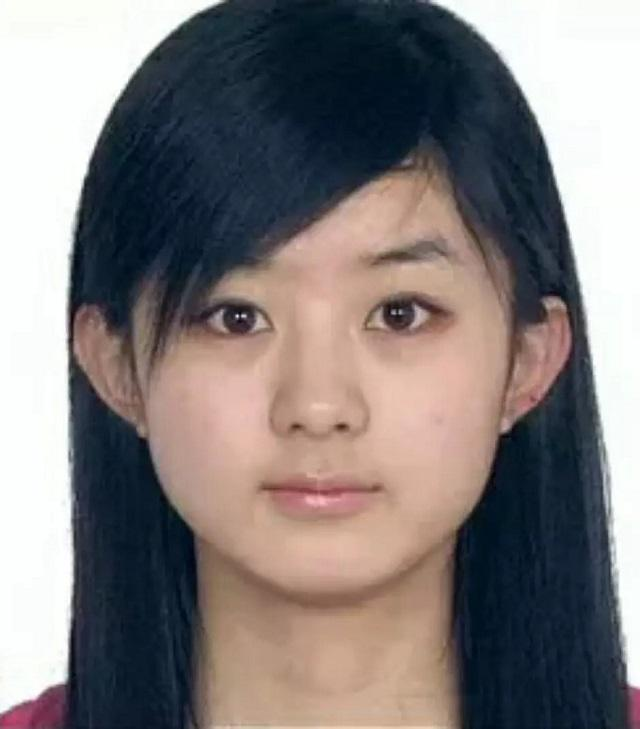unmask: (140, 196, 506, 577)
